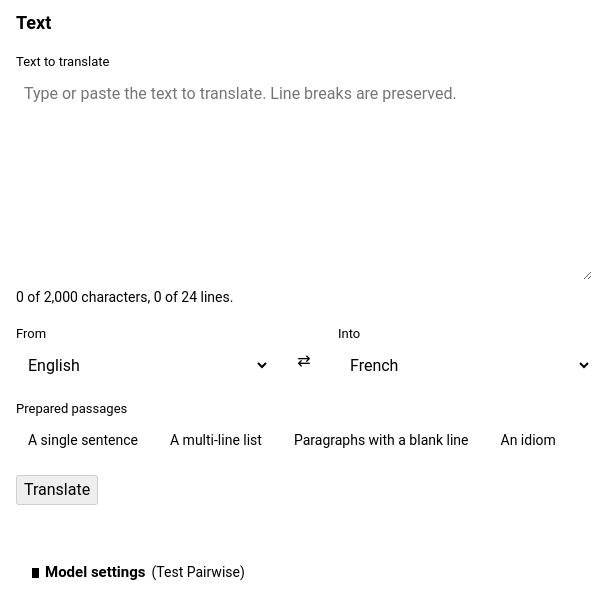
the swap action › exchanges the two languages when pressed
The width and height of the screenshot is (609, 598).
What coordinates should you click on to do the following:
click the button with class "swap"
I would click on:
 (304, 361)
Its box is x1=282 y1=339 x2=326 y2=383.
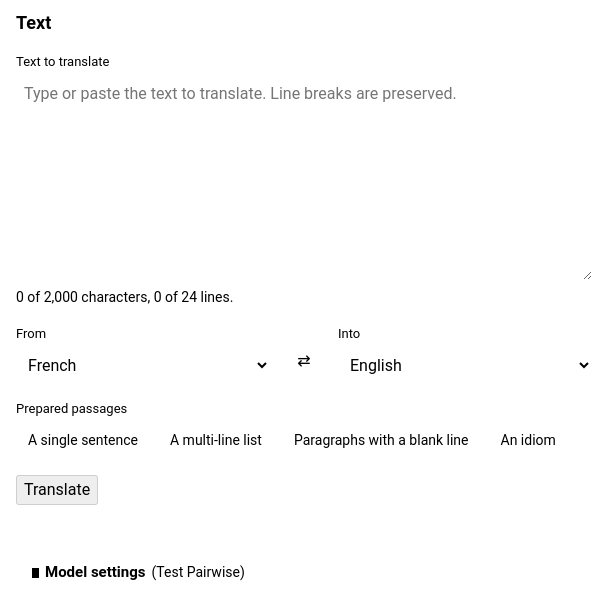
Now the dropdown with id "translate-source-language" shows "French", box x1=16 y1=347 x2=270 y2=383
Now the dropdown with id "translate-target-language" shows "English", box x1=338 y1=347 x2=592 y2=383
